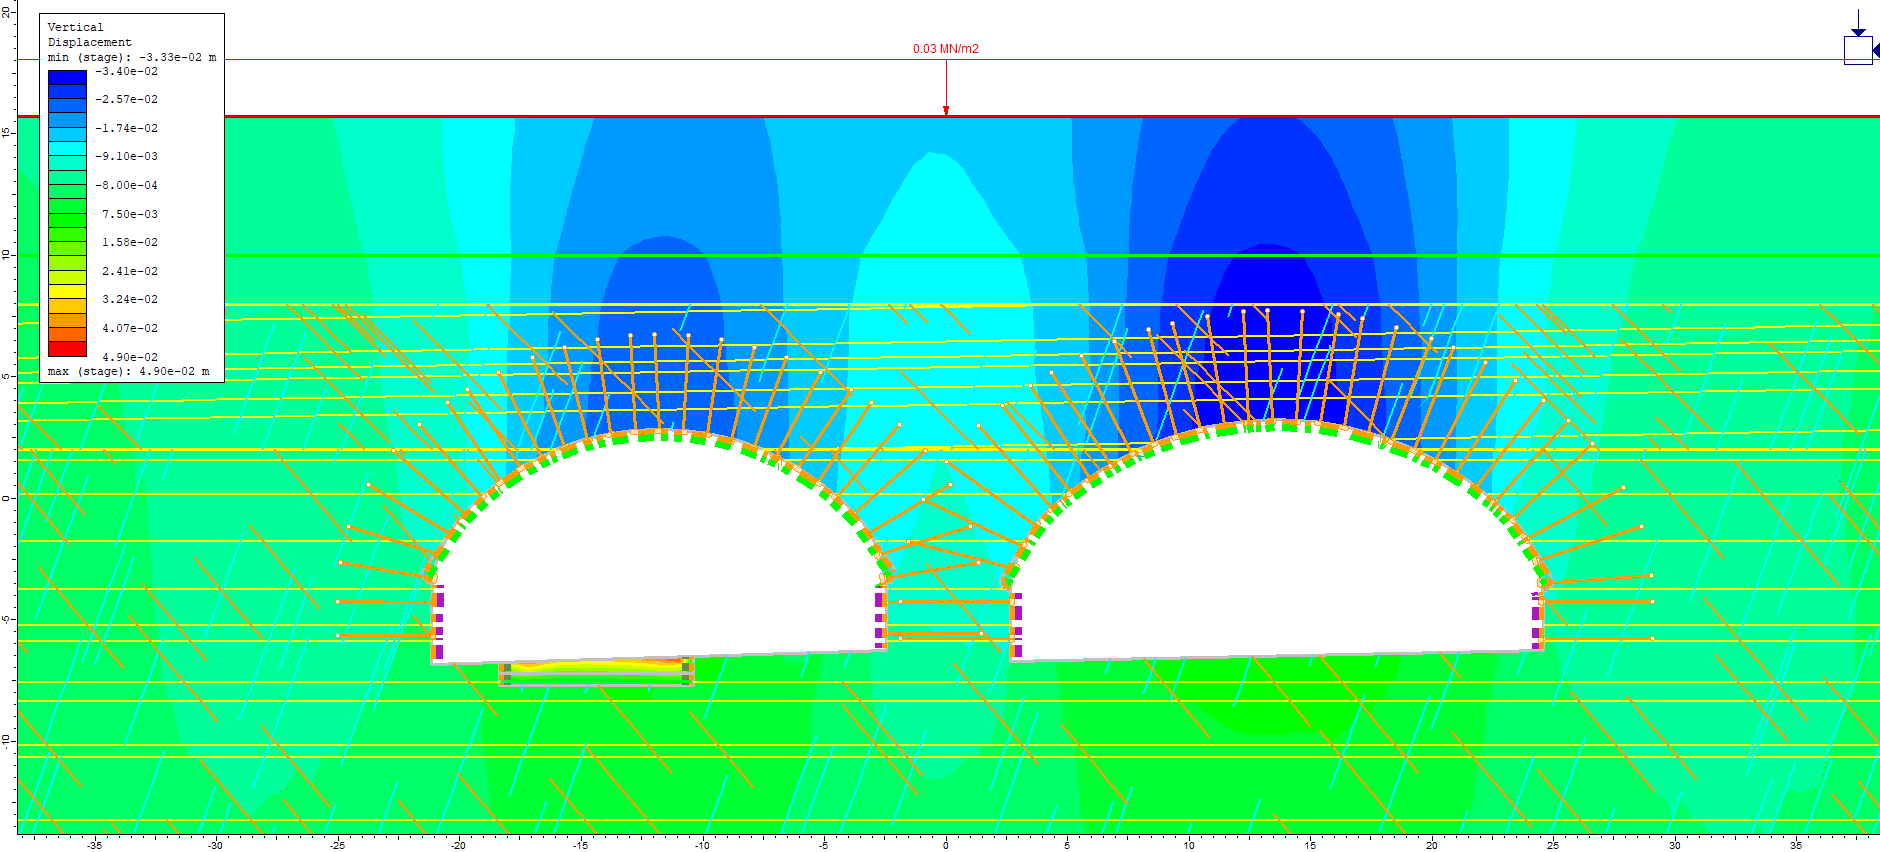crown: (1222, 389, 1326, 417), (623, 395, 700, 423)
label: (38, 13, 225, 385)
tunnel-opening: (999, 415, 1554, 659), (428, 425, 894, 659)
